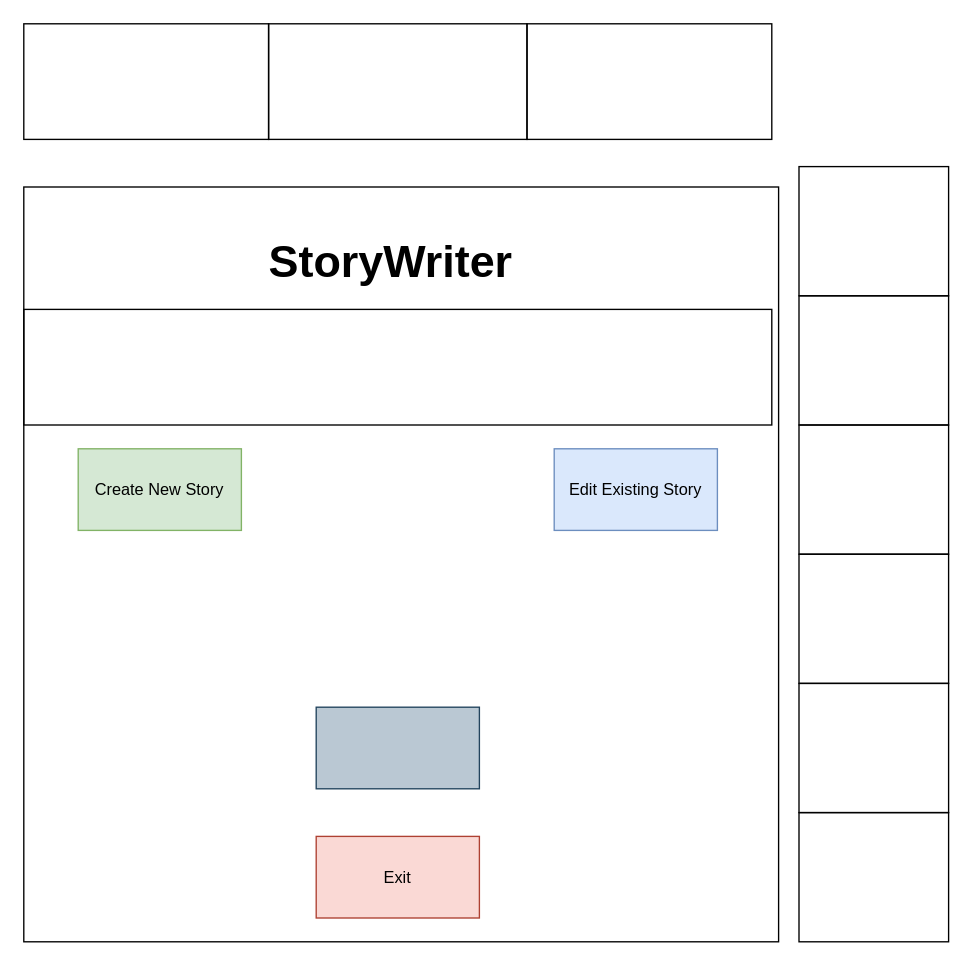
The diagram is 972 pixels wide and 966 high, and some of its shapes have lost their labels. The centre of each missing label's shape, as x and y in pixels:
Create or Modify a story using a large language model, local or remote.: (x=397, y=366)
Settings: (x=397, y=747)
